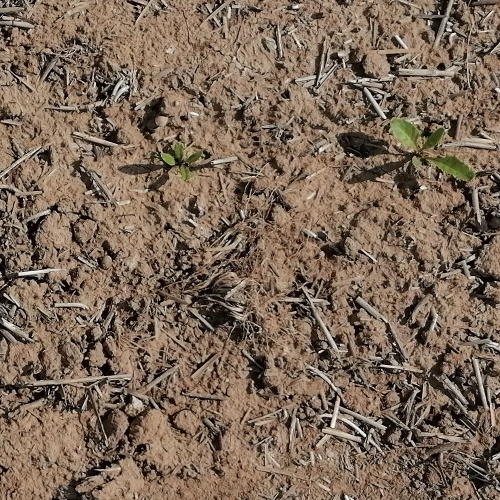beet: (392, 117, 473, 183), (159, 140, 204, 178)
